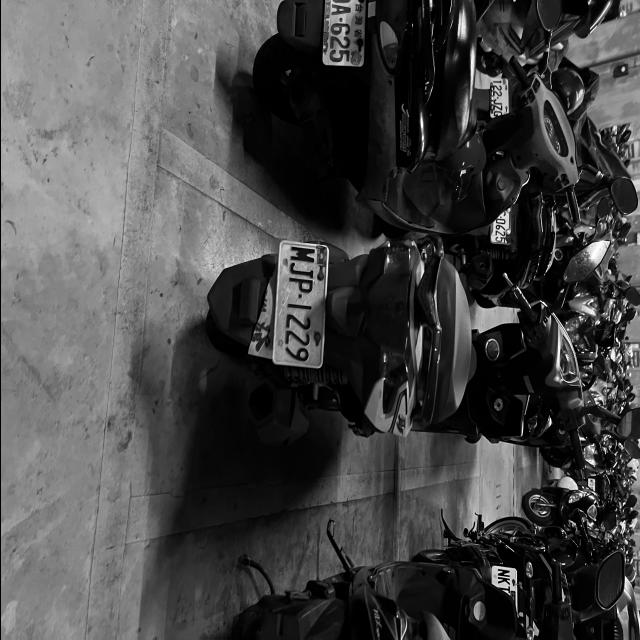-: (296, 294, 302, 300), (338, 17, 342, 23), (499, 216, 501, 218), (496, 97, 498, 99)
0: (495, 218, 505, 224)
1: (286, 302, 312, 310), (491, 80, 501, 83)
2: (274, 246, 330, 370), (284, 331, 311, 347), (284, 314, 310, 328), (328, 36, 350, 49), (494, 230, 504, 236), (492, 85, 501, 91), (492, 91, 500, 97)
5: (329, 49, 351, 63), (494, 237, 504, 243)
6: (330, 24, 350, 36), (494, 224, 504, 230)
9: (284, 347, 308, 362)
A: (329, 4, 351, 15)
J: (289, 262, 314, 278), (492, 99, 502, 105)
K: (497, 576, 509, 584)
M: (289, 246, 315, 262)
N: (497, 570, 509, 576)
P: (287, 278, 313, 292)
Z: (492, 105, 502, 111)
